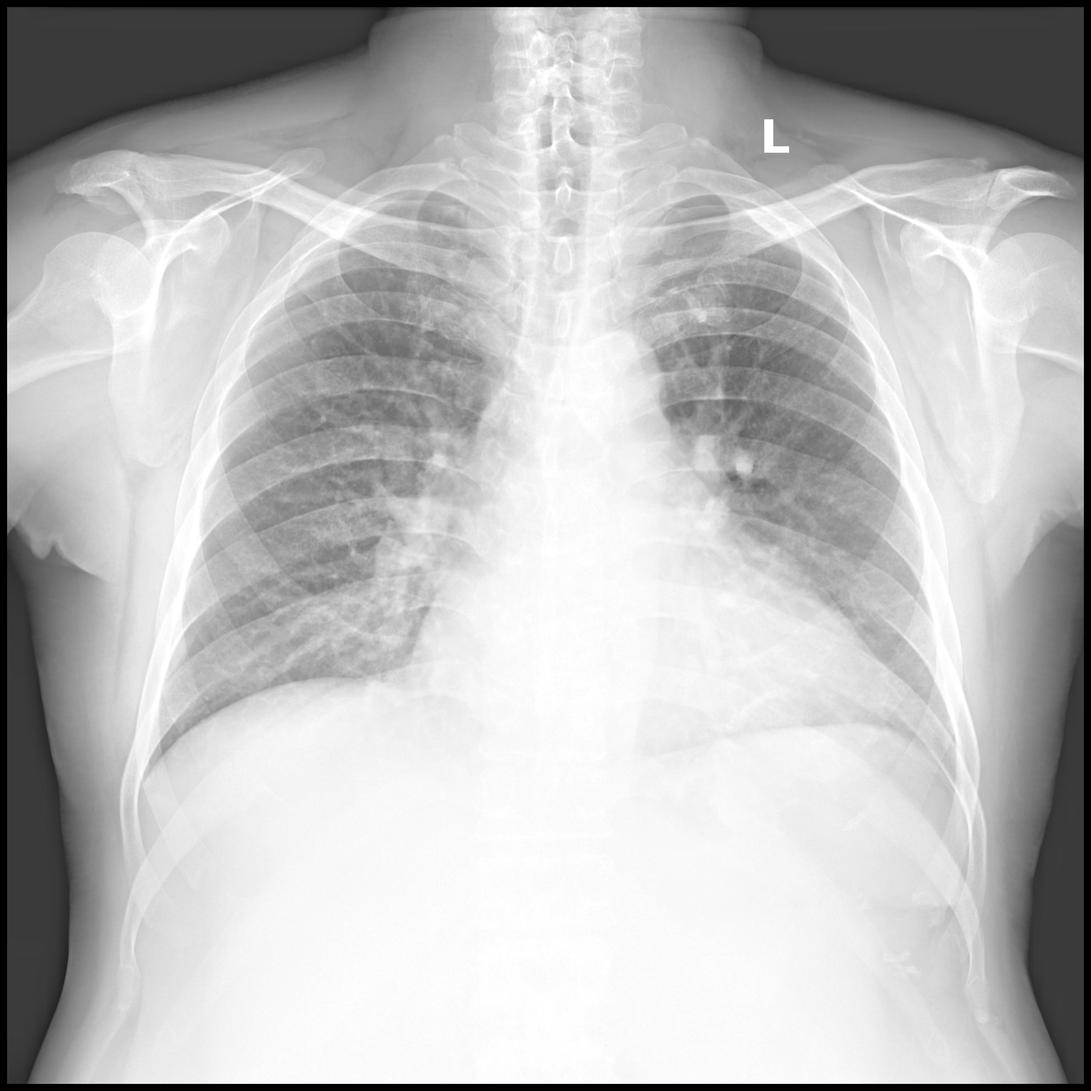Aortic enlargement: (550, 327, 671, 423)
Cardiomegaly: (407, 611, 913, 753)
